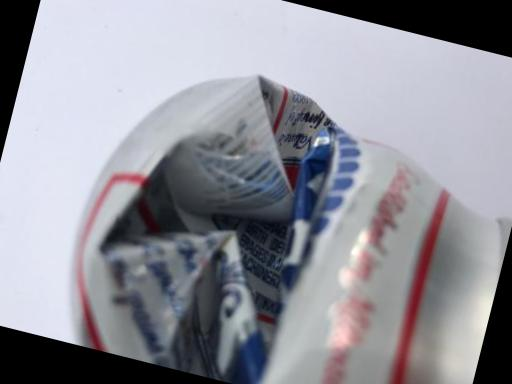metal: (35, 19, 512, 384)
